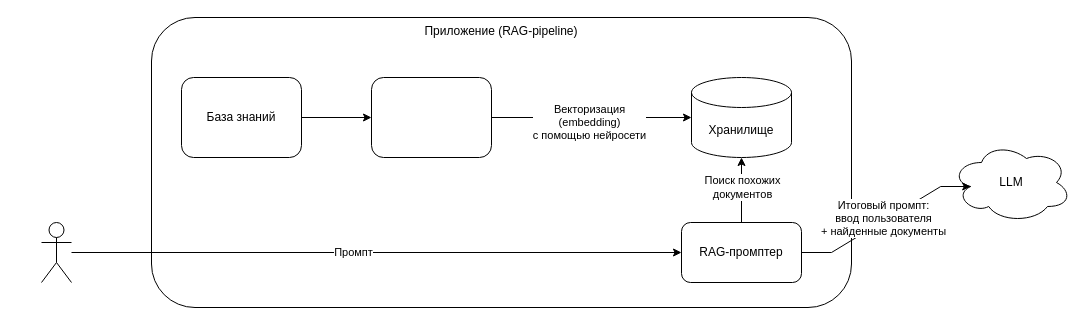
Image size: 1089x325. Some labels were removed from this diagram. The box of each missing label's shape, as (x1, y1, x2, y2) in pixels:
Отрывки (splits): (370, 76, 492, 158)
Пользователь: (40, 222, 72, 282)
